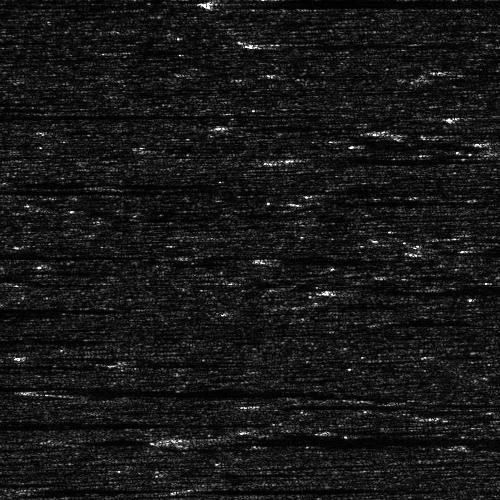rock: (204, 37, 339, 48), (399, 111, 500, 124), (300, 285, 415, 294), (344, 125, 437, 136), (251, 154, 334, 161), (197, 122, 270, 129), (0, 179, 42, 186), (240, 255, 281, 260), (218, 0, 259, 1)
shadow: (0, 110, 268, 119), (272, 37, 480, 48), (293, 154, 498, 161), (0, 332, 108, 345), (6, 179, 195, 186), (358, 285, 500, 294), (391, 125, 500, 136), (234, 122, 370, 129), (0, 358, 69, 369), (0, 250, 80, 259), (261, 255, 395, 260), (0, 35, 68, 42), (0, 306, 53, 313), (239, 0, 500, 1)
